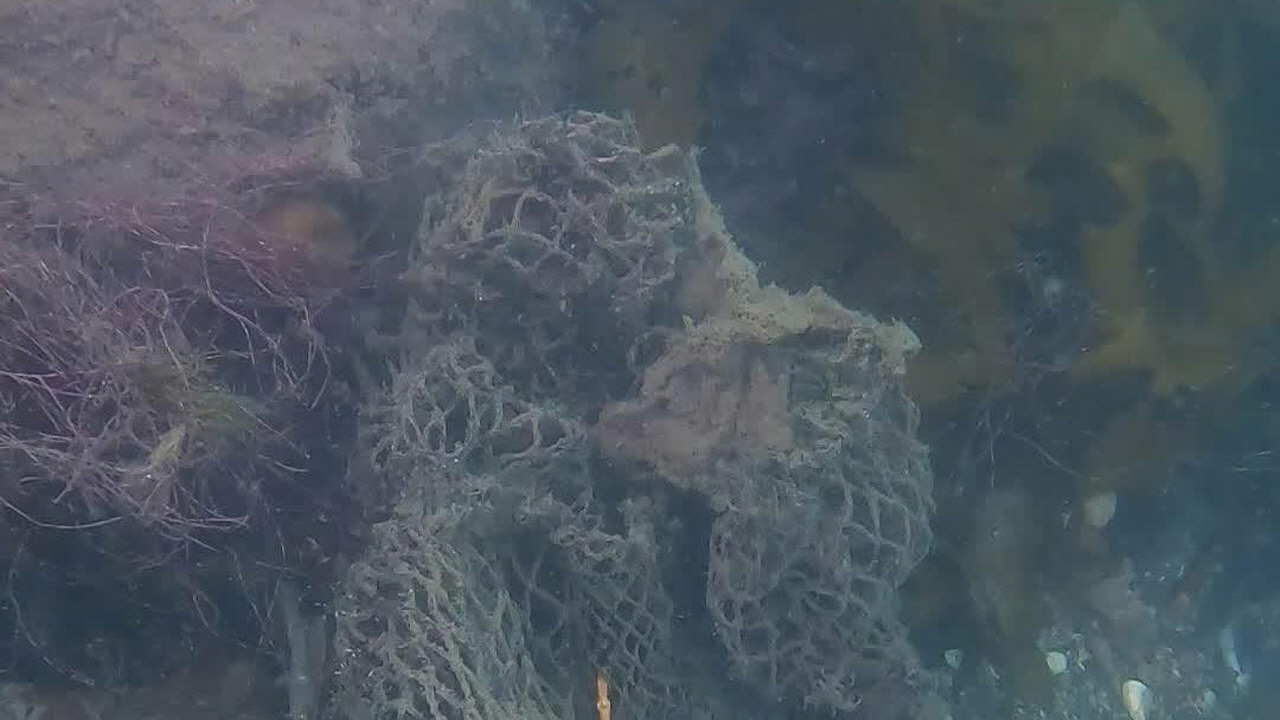fish net: (335, 105, 942, 720)
